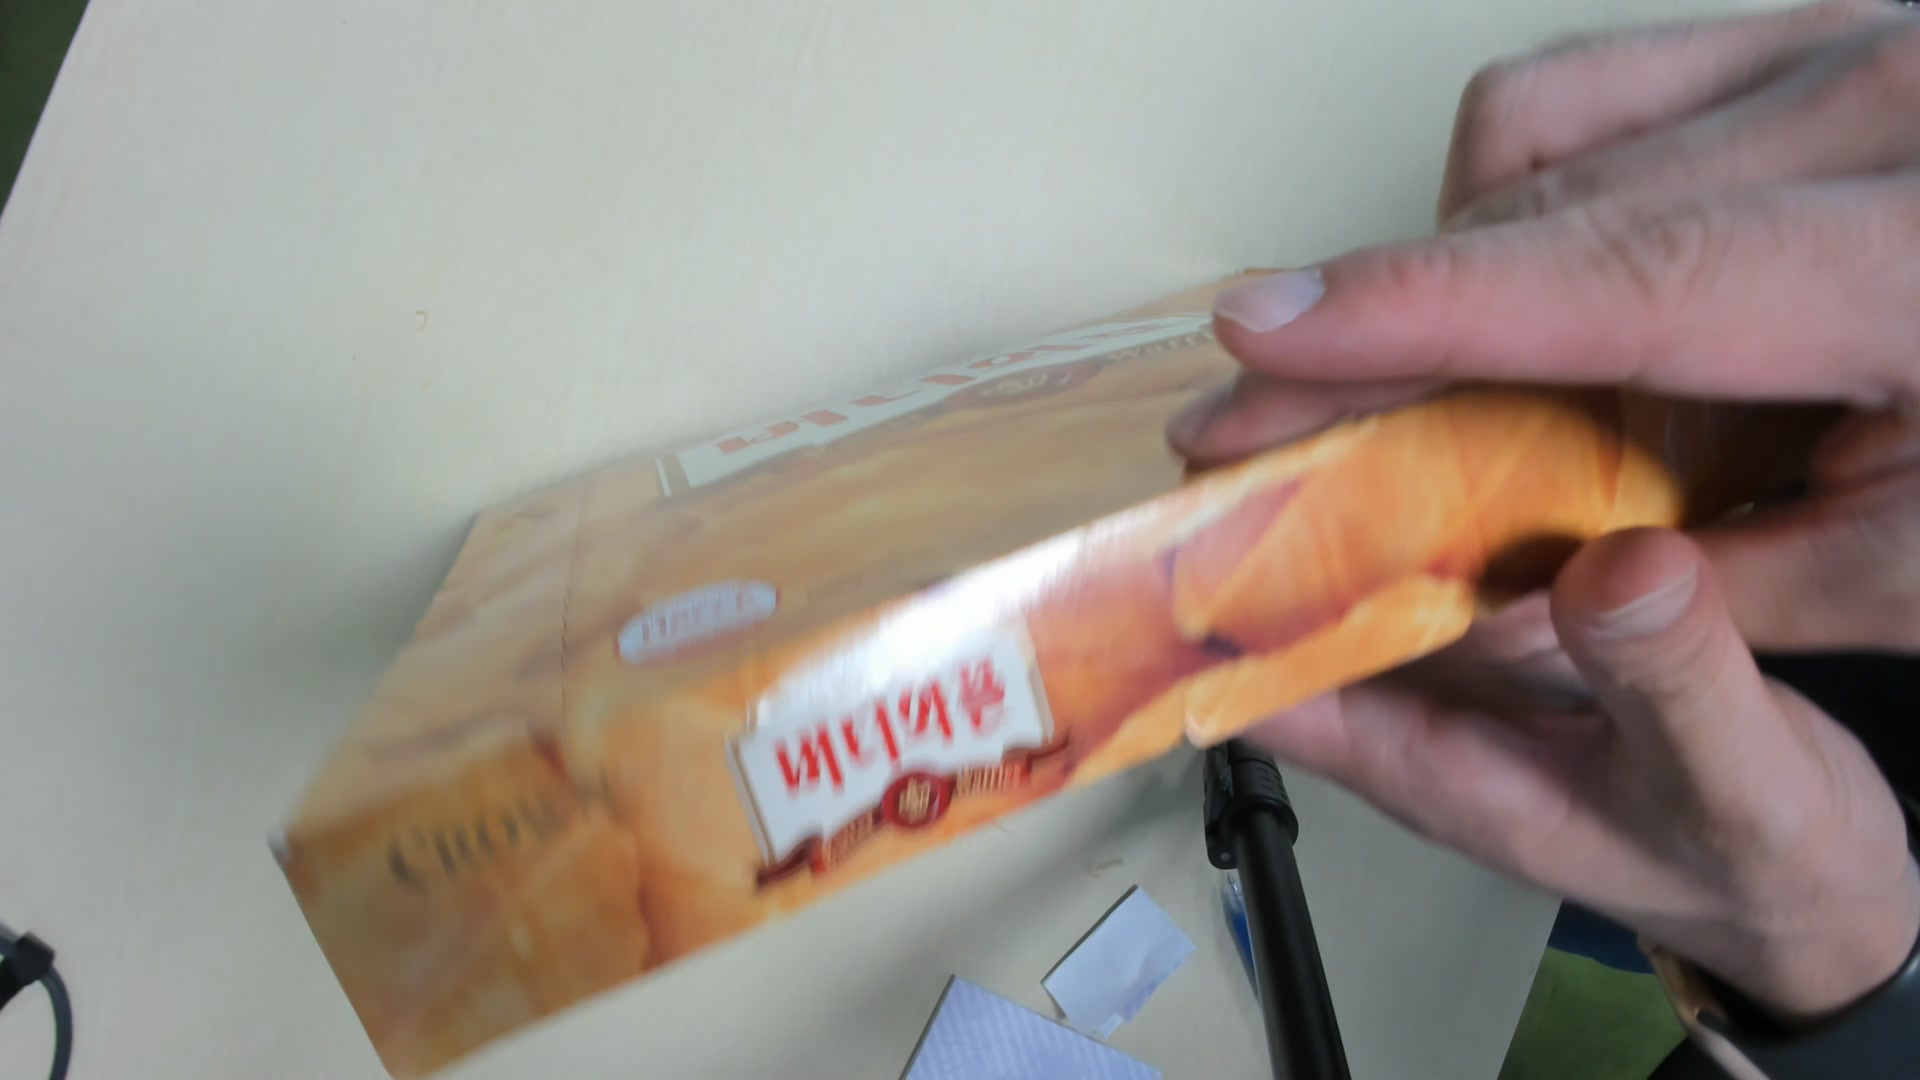BiscuitsCrackersCookies_300-399g_NonHalal_NonHealthy: (280, 273, 1689, 1073)
